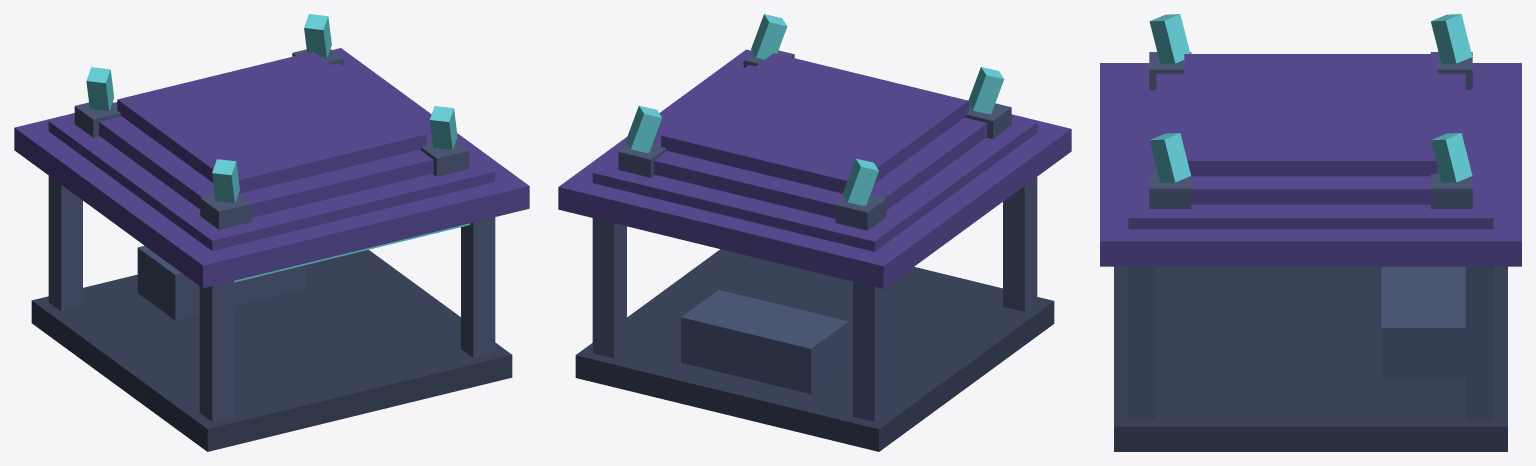
File: theme_mage.glb
The picture shows the model from 3 angles, left to right: view 1: azimuth 30°, elevation 25°; view 2: azimuth 150°, elevation 25°; view 3: azimuth 270°, elevation 25°; orthographic projection. The views are drawn at different scales.
Visible parts, largest first — view 1: theme_mage; view 2: theme_mage; view 3: theme_mage.
Boxes of the visible parts, x1,y1,x2,y2 form: theme_mage: (14, 14, 529, 451); theme_mage: (558, 14, 1071, 451); theme_mage: (1100, 14, 1521, 451).
Bounding box in the file's own units: 15 × 11.49 × 15.
